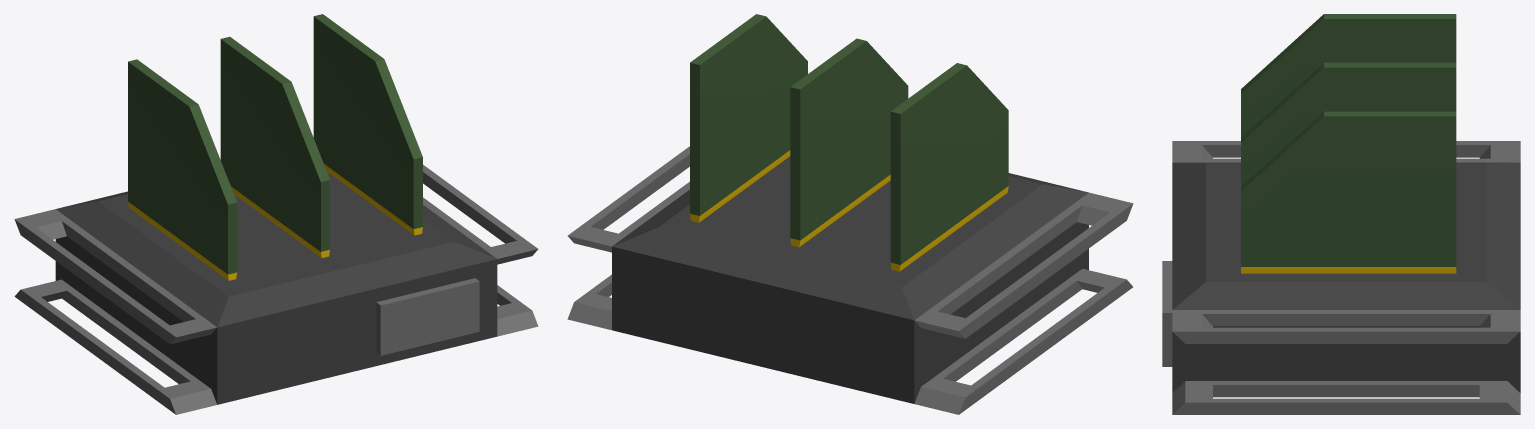
File: Guidance Pack.fbx
3 renders of one model, left to right at view 1: azimuth 30°, elevation 25°; view 2: azimuth 150°, elevation 25°; view 3: azimuth 270°, elevation 25°, orthographic. The views are drawn at different scales.
Parts seen in each view (by area): view 1: Guidance_Pack; view 2: Guidance_Pack; view 3: Guidance_Pack.
Boxes of the visible parts, x1,y1,x2,y2 form: Guidance_Pack: (14, 14, 538, 414); Guidance_Pack: (567, 14, 1133, 414); Guidance_Pack: (1162, 14, 1520, 414).
Size of the model in its own units: 0.7803 by 0.4864 by 0.6201.
